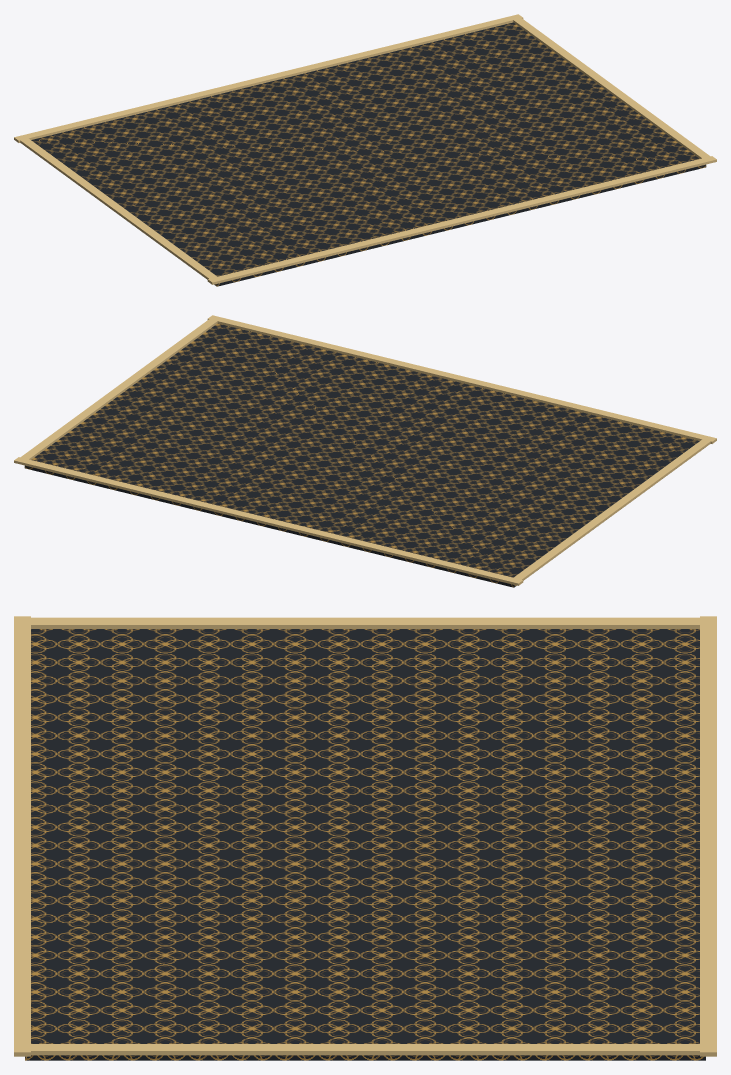
File: karpet_batik_kawung.glb
3 renders of one model, top to bottom at view 1: azimuth 30°, elevation 25°; view 2: azimuth 150°, elevation 25°; view 3: azimuth 270°, elevation 25°, orthographic. The views are drawn at different scales.
Parts seen in each view (by area): view 1: KAWUNG_CARPET, KAWUNG_BORDER_Z_1.32, KAWUNG_BORDER_Z_-1.32, KAWUNG_BORDER_X_-1.94, KAWUNG_BORDER_X_1.94; view 2: KAWUNG_CARPET, KAWUNG_BORDER_Z_-1.32, KAWUNG_BORDER_Z_1.32, KAWUNG_BORDER_X_-1.94, KAWUNG_BORDER_X_1.94; view 3: KAWUNG_CARPET, KAWUNG_BORDER_X_-1.94, KAWUNG_BORDER_X_1.94, KAWUNG_BORDER_Z_-1.32, KAWUNG_BORDER_Z_1.32.
Boxes of the visible parts, box(x1,y1,x2,y2) form: KAWUNG_CARPET: box(31, 22, 706, 286); KAWUNG_BORDER_Z_1.32: box(207, 156, 716, 284); KAWUNG_BORDER_Z_-1.32: box(14, 14, 523, 142); KAWUNG_BORDER_X_-1.94: box(17, 136, 219, 279); KAWUNG_BORDER_X_1.94: box(513, 16, 713, 159); KAWUNG_CARPET: box(24, 323, 699, 587); KAWUNG_BORDER_Z_-1.32: box(14, 457, 523, 585); KAWUNG_BORDER_Z_1.32: box(207, 315, 716, 443); KAWUNG_BORDER_X_-1.94: box(511, 437, 713, 580); KAWUNG_BORDER_X_1.94: box(17, 317, 218, 460); KAWUNG_CARPET: box(25, 629, 705, 1060); KAWUNG_BORDER_X_-1.94: box(20, 617, 710, 628); KAWUNG_BORDER_X_1.94: box(21, 1044, 710, 1055); KAWUNG_BORDER_Z_-1.32: box(700, 616, 716, 1056); KAWUNG_BORDER_Z_1.32: box(14, 616, 30, 1056).
Bounding box in the file's own units: 3.97 × 0.0625 × 2.7.
Materials: 2 (1 with a texture image).
